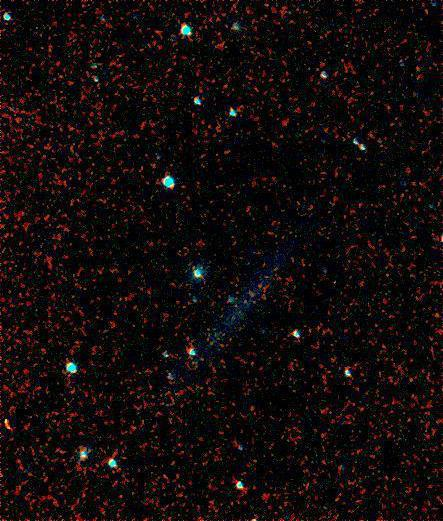star: (232, 250, 262, 280)
